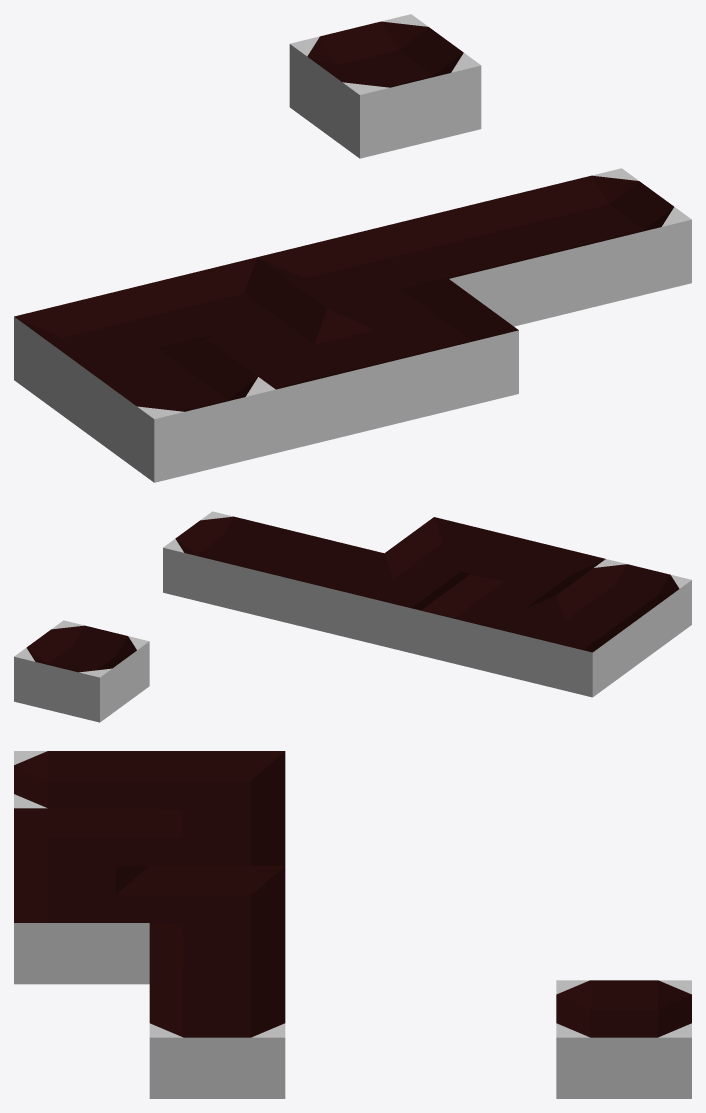
File: 74s_path.obj
3 renders of one model, top to bottom at view 1: azimuth 30°, elevation 25°; view 2: azimuth 150°, elevation 25°; view 3: azimuth 270°, elevation 25°, orthographic. The views are drawn at different scales.
Parts seen in each view (by area): view 1: hole.4.4_Cube.298, ending.0.0_ending.593, ending.4.1_ending.594, corner.2.0_corner.1476, through.3.1_through.305, corner.1.0_corner.1474, corner.0.1_corner.1473, corner.1.1_corner.1475, corner.2.1_corner.1477; view 2: hole.4.4_Cube.298, corner.0.1_corner.1473, ending.4.1_ending.594, through.3.1_through.305, corner.1.1_corner.1475, ending.0.0_ending.593, corner.2.1_corner.1477, corner.2.0_corner.1476, corner.1.0_corner.1474; view 3: hole.4.4_Cube.298, ending.4.1_ending.594, corner.2.0_corner.1476, corner.2.1_corner.1477, corner.0.1_corner.1473, corner.1.0_corner.1474, through.3.1_through.305, ending.0.0_ending.593, corner.1.1_corner.1475.
Part boxes in pixels (x1,y1,x2,y2): hole.4.4_Cube.298: (289, 14, 481, 158); ending.0.0_ending.593: (84, 338, 275, 482); ending.4.1_ending.594: (500, 168, 691, 312); corner.2.0_corner.1476: (327, 279, 518, 423); through.3.1_through.305: (379, 198, 570, 326); corner.1.0_corner.1474: (206, 309, 397, 452); corner.0.1_corner.1473: (14, 287, 204, 431); corner.1.1_corner.1475: (136, 257, 326, 346); corner.2.1_corner.1477: (257, 227, 448, 316); hole.4.4_Cube.298: (14, 620, 149, 722); corner.0.1_corner.1473: (506, 595, 642, 697); ending.4.1_ending.594: (163, 511, 298, 613); through.3.1_through.305: (249, 532, 383, 634); corner.1.1_corner.1475: (420, 574, 555, 676); ending.0.0_ending.593: (556, 559, 691, 660); corner.2.1_corner.1477: (334, 553, 469, 655); corner.2.0_corner.1476: (384, 517, 519, 580); corner.1.0_corner.1474: (471, 538, 605, 600); hole.4.4_Cube.298: (556, 980, 691, 1098); ending.4.1_ending.594: (149, 980, 285, 1098); corner.2.0_corner.1476: (14, 865, 149, 984); corner.2.1_corner.1477: (149, 865, 285, 938); corner.0.1_corner.1473: (149, 751, 285, 823); corner.1.0_corner.1474: (14, 808, 149, 880); through.3.1_through.305: (149, 923, 285, 995); ending.0.0_ending.593: (14, 751, 149, 808); corner.1.1_corner.1475: (149, 808, 285, 865).
Bounding box in the file's own units: 10 × 1 × 10.
